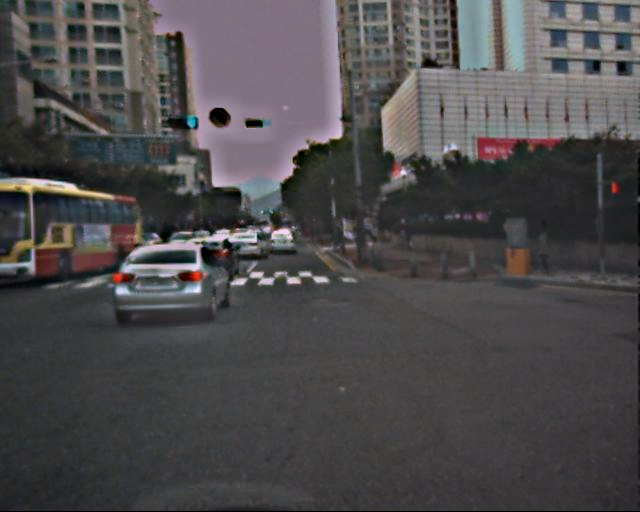person: (533, 228, 553, 277)
